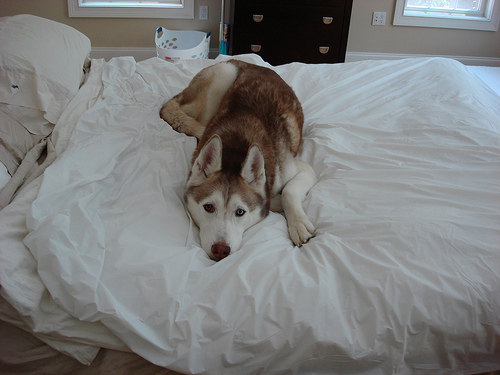dog: (157, 57, 318, 264)
